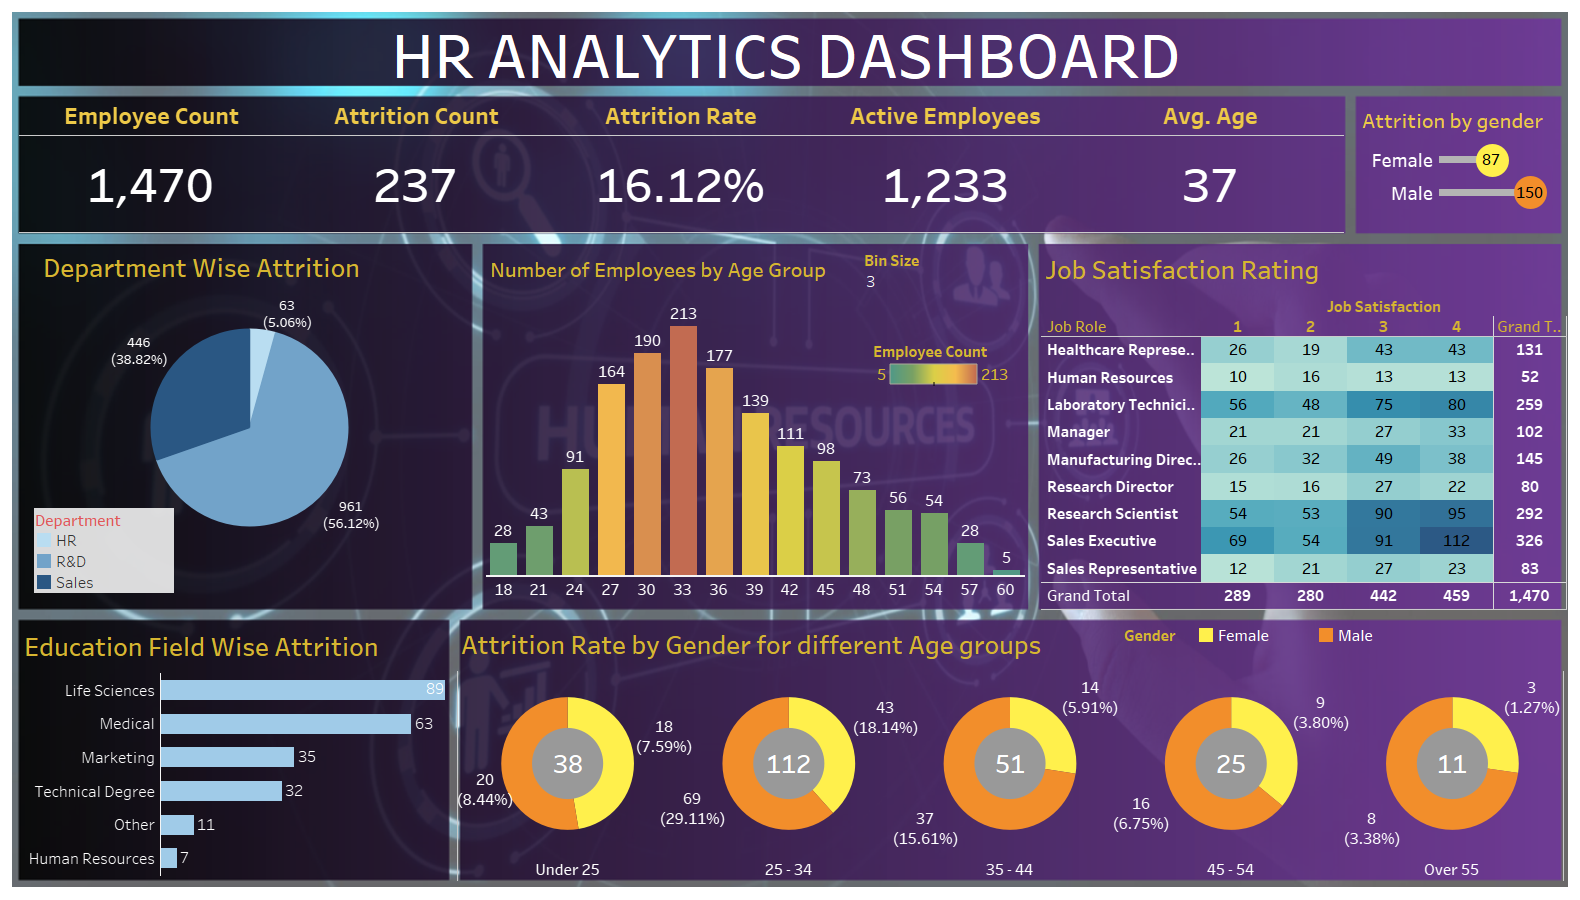

This screenshot's page, from the dashboard's own definition file:
{"tool":"tableau","page":{"name":"HR Analytics Dashboard","canvas":[1580,900],"ordinal":0},"visuals":[{"type":"image","param":"E:/Tableau/HR Analytics/HR background.pptx.png","box":[8,8,1564,884]},{"type":"text","box":[9,22,1554,64]},{"type":"worksheet","title":"KPIs","mark":"Automatic","box":[19,95,1325,138]},{"type":"worksheet","title":"Attrition by gender","mark":"Automatic","rows":["Gender"],"cols":["Calculation_568579508101275648","Calculation_568579508101275648"],"box":[1358,100,219,125]},{"type":"worksheet","title":"Department Wise Attrition","mark":"Pie","box":[39,244,421,335]},{"type":"worksheet","title":"Job Satisfaction Rating","mark":"Square","rows":["Job Role"],"cols":["Job Satisfaction"],"box":[1041,246,526,364]},{"type":"worksheet","title":"Number of Employees by Age Group","mark":"Automatic","rows":["Employee Count"],"cols":["Age (bin)"],"box":[486,249,538,352]},{"type":"parameter","param":"[Parameters].[Parameter 1]","box":[864,249,160,71]},{"type":"legend","title":"Number of Employees by Age Group","param":"[federated.06749qt02bz9kf139uces023ggjm].[sum:Employee Count:qk]","box":[873,337,140,88]},{"type":"legend","title":"Department Wise Attrition","param":"[federated.06749qt02bz9kf139uces023ggjm].[none:Department:nk]","box":[34,508,140,85]},{"type":"worksheet","title":"Attrition Rate by Gender for different Age groups","mark":"Pie","rows":["Calculation_170292416782790658","Calculation_170292416782790658"],"cols":["CF_age band"],"box":[457,621,1107,261]},{"type":"worksheet","title":"Education Field Wise Attrition","mark":"Automatic","rows":["Education Field"],"cols":["Calculation_568579508101275648"],"box":[20,623,425,252]},{"type":"legend","title":"Attrition Rate by Gender for different Age groups","param":"[federated.06749qt02bz9kf139uces023ggjm].[none:Gender:nk]","box":[1124,625,383,29]}]}

Visuals, with their boxes in screenshot pixels (x1, y1, x2, y2), scaled from the page's 1580x900 canvas onto the 1580x900 screenshot:
image: bbox(8, 8, 1572, 892)
text: bbox(9, 22, 1563, 86)
"KPIs" worksheet: bbox(19, 95, 1344, 233)
"Attrition by gender" worksheet: bbox(1358, 100, 1577, 225)
"Department Wise Attrition" worksheet (Pie marks): bbox(39, 244, 460, 579)
"Job Satisfaction Rating" worksheet (Square marks): bbox(1041, 246, 1567, 610)
"Number of Employees by Age Group" worksheet: bbox(486, 249, 1024, 601)
parameter: bbox(864, 249, 1024, 320)
"Number of Employees by Age Group" legend: bbox(873, 337, 1013, 425)
"Department Wise Attrition" legend: bbox(34, 508, 174, 593)
"Attrition Rate by Gender for different Age groups" worksheet (Pie marks): bbox(457, 621, 1564, 882)
"Education Field Wise Attrition" worksheet: bbox(20, 623, 445, 875)
"Attrition Rate by Gender for different Age groups" legend: bbox(1124, 625, 1507, 654)
